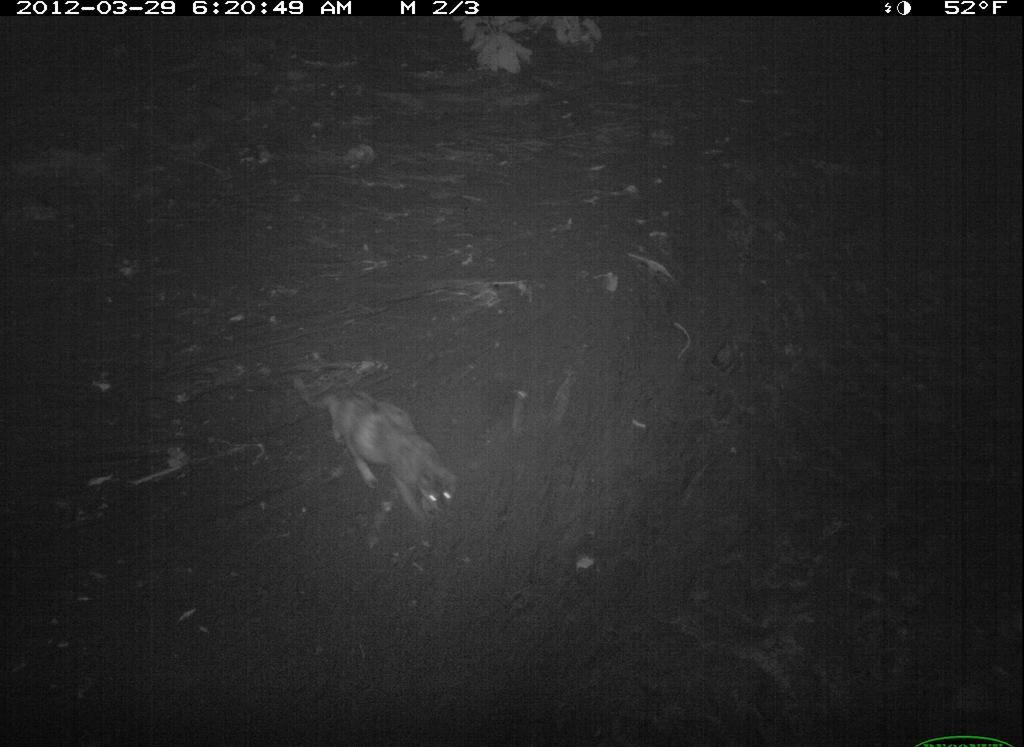cat: (297, 365, 469, 546)
